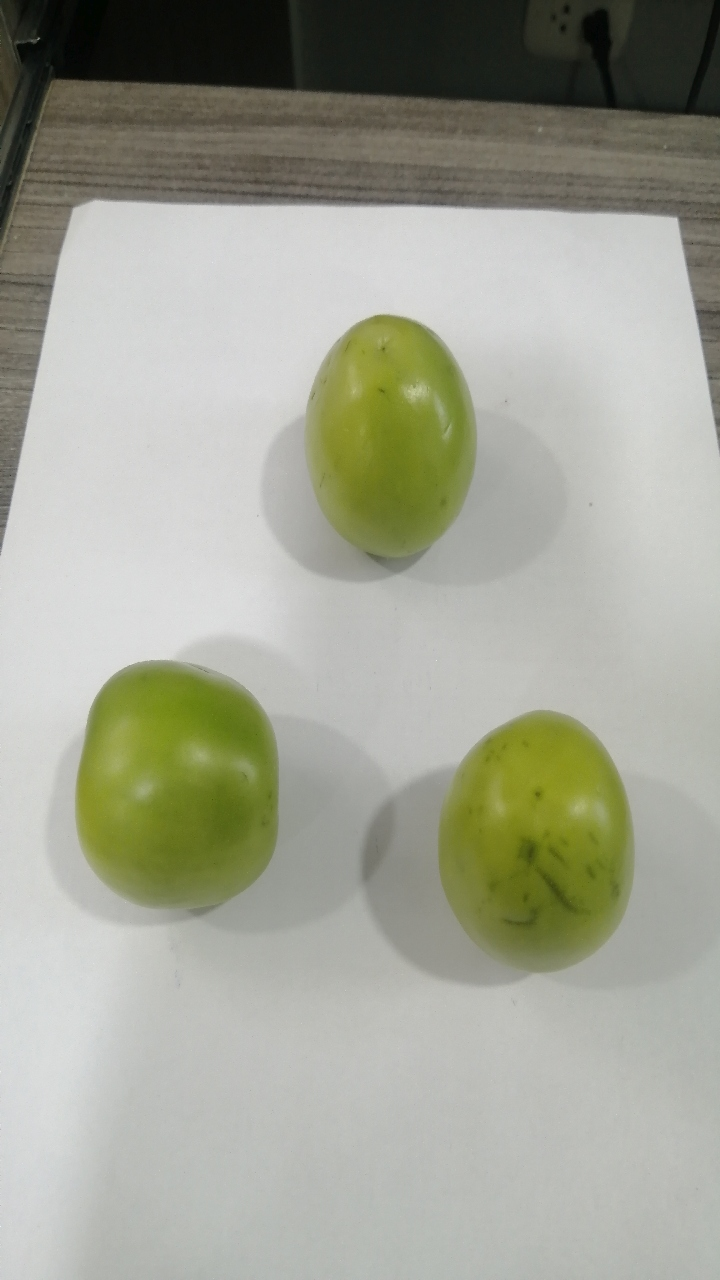tomateVerde: (423, 689, 654, 989), (63, 634, 300, 919), (284, 283, 508, 583)
